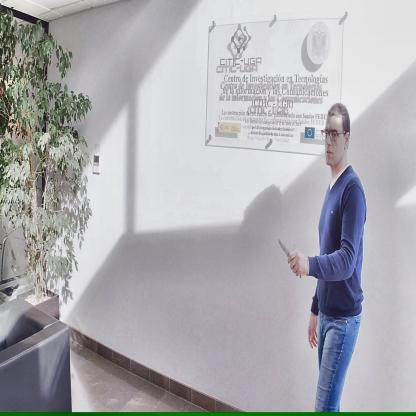knife: (276, 233, 302, 280)
